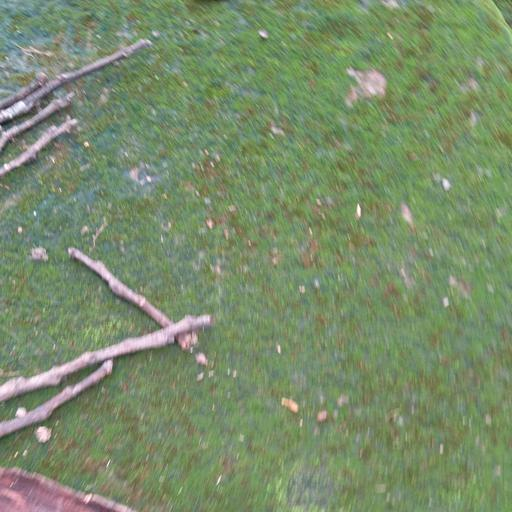algae: (1, 2, 512, 512)
